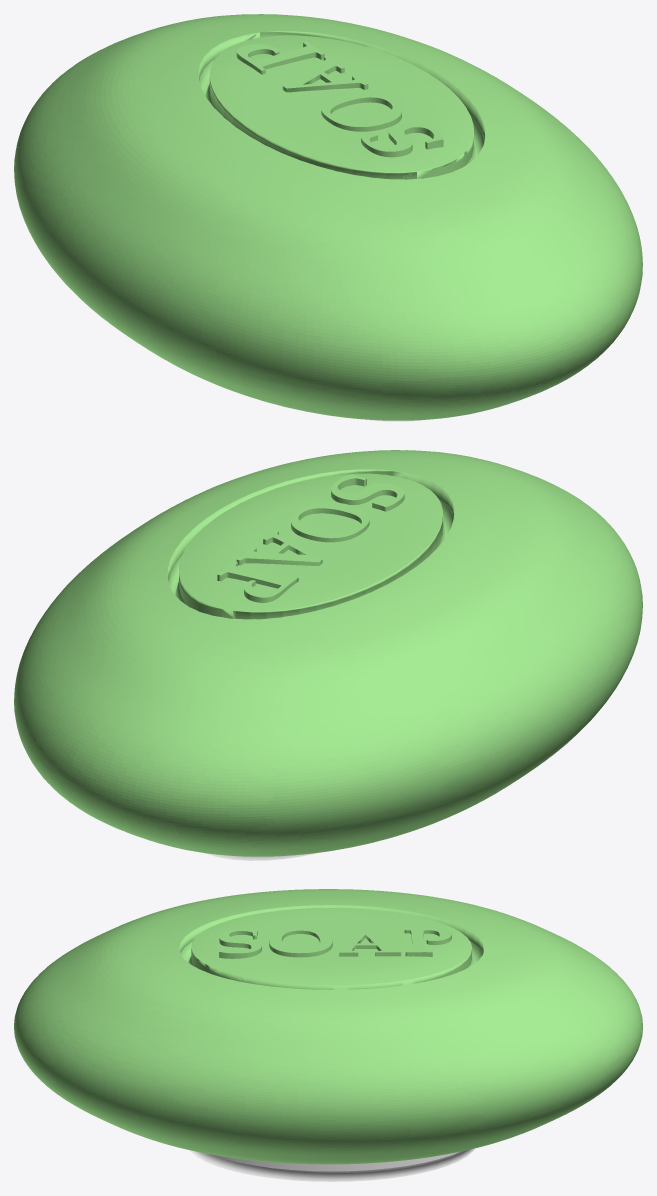
Rendered from jabon_con.glb.
3 renders of one model, top to bottom at view 1: azimuth 30°, elevation 25°; view 2: azimuth 150°, elevation 25°; view 3: azimuth 270°, elevation 25°, orthographic. The views are drawn at different scales.
Parts seen in each view (by area): view 1: Sphere.001, Text; view 2: Sphere.001, Text; view 3: Sphere.001, BezierCircle, Text.
Boxes of the visible parts, x1,y1,x2,y2 form: Sphere.001: [14, 14, 642, 420]; Text: [236, 41, 443, 157]; Sphere.001: [14, 450, 642, 856]; Text: [217, 474, 404, 602]; Sphere.001: [14, 889, 642, 1164]; BezierCircle: [190, 1148, 475, 1181]; Text: [219, 928, 451, 958].
Bounding box in the file's own units: 3.84 × 1.95 × 5.48.
